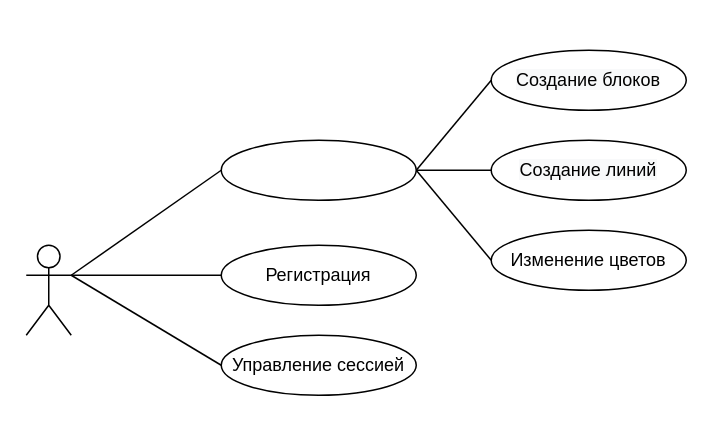
Some shapes in this 713 by 422 pixel diagram are drawn without their labels. Each missing label, with the box of its shape:
Actor: (25, 244, 71, 335)
Создание диаграмм: (220, 139, 416, 200)
